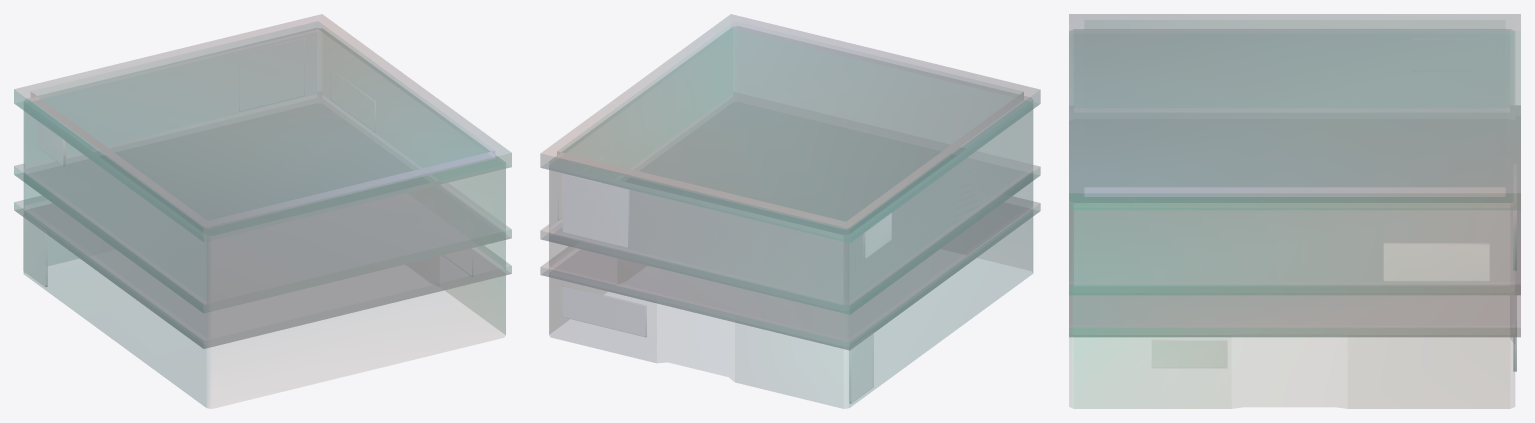
File: CEN_9DE3.preview.glb
3 renders of one model, left to right at view 1: azimuth 30°, elevation 25°; view 2: azimuth 150°, elevation 25°; view 3: azimuth 270°, elevation 25°, orthographic. The views are drawn at different scales.
Parts seen in each view (by area): view 1: obj_eb0, obj_1520, obj_1e20, obj_630, obj_2910, obj_2da0, obj_1ad0; view 2: obj_eb0, obj_1520, obj_1e20, obj_630, obj_2da0, obj_2520, obj_1cc0, obj_2910, obj_1ad0; view 3: obj_eb0, obj_1e20, obj_1520, obj_630, obj_2520, obj_1cc0, obj_2da0.
Part boxes in pixels (left/top/right/bottom): obj_eb0: left=15, top=14, right=510, bottom=348; obj_1520: left=24, top=28, right=505, bottom=408; obj_1e20: left=40, top=30, right=485, bottom=220; obj_630: left=14, top=14, right=511, bottom=348; obj_2910: left=23, top=120, right=65, bottom=286; obj_2da0: left=24, top=121, right=62, bottom=285; obj_1ad0: left=25, top=112, right=83, bottom=266; obj_eb0: left=541, top=14, right=1039, bottom=349; obj_1520: left=549, top=26, right=1032, bottom=408; obj_1e20: left=566, top=30, right=1014, bottom=221; obj_630: left=540, top=14, right=1040, bottom=349; obj_2da0: left=562, top=175, right=890, bottom=401; obj_2520: left=558, top=157, right=646, bottom=336; obj_1cc0: left=668, top=307, right=728, bottom=376; obj_2910: left=849, top=213, right=891, bottom=403; obj_1ad0: left=550, top=170, right=607, bottom=333; obj_eb0: left=1069, top=14, right=1520, bottom=336; obj_1e20: left=1084, top=30, right=1505, bottom=187; obj_1520: left=1069, top=29, right=1514, bottom=408; obj_630: left=1069, top=14, right=1520, bottom=336; obj_2520: left=1152, top=164, right=1516, bottom=371; obj_1cc0: left=1245, top=340, right=1334, bottom=406; obj_2da0: left=1152, top=245, right=1488, bottom=367.
Bounding box in the file's own units: 81.9 × 46.5 × 87.28.
